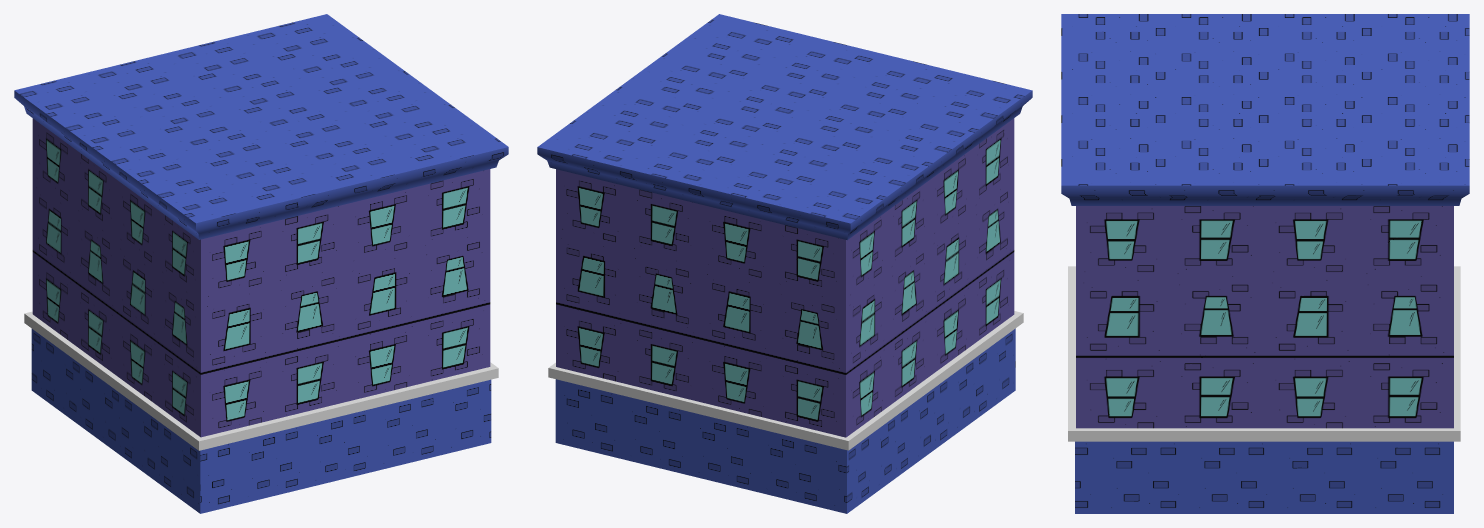
3 renders of one model, left to right at view 1: azimuth 30°, elevation 25°; view 2: azimuth 150°, elevation 25°; view 3: azimuth 270°, elevation 25°, orthographic. The views are drawn at different scales.
Parts seen in each view (by area): view 1: Box003, Box004, Box001, Box002; view 2: Box003, Box004, Box001, Box002; view 3: Box003, Box004, Box001, Box002.
Boxes of the visible parts, x1,y1,x2,y2 form: Box003: (32,118,490,437); Box004: (14,14,508,239); Box001: (31,329,491,513); Box002: (24,311,498,450); Box003: (556,118,1014,437); Box004: (537,14,1032,240); Box001: (555,328,1015,513); Box002: (548,311,1023,450); Box003: (1076,206,1453,428); Box004: (1061,14,1469,205); Box001: (1075,441,1453,513); Box002: (1068,266,1460,441).
Bounding box in the file's own units: 11.73 × 10.67 × 11.8.
